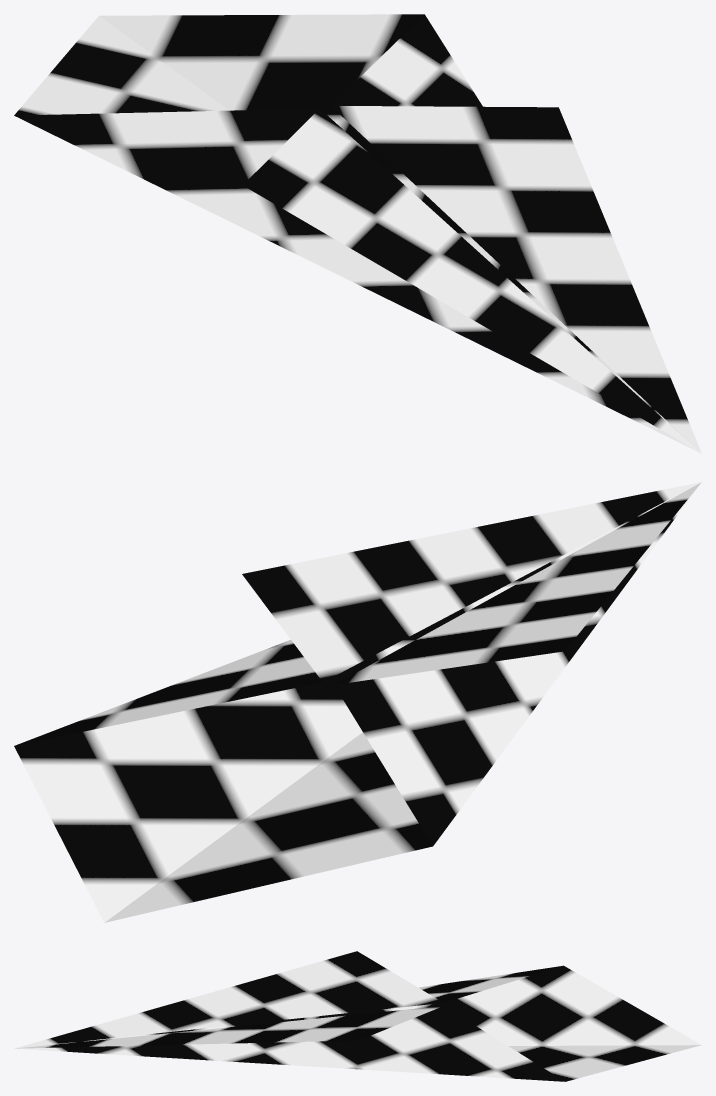
The model's file is stst104.dae.
The picture shows the model from 3 angles, top to bottom: view 1: azimuth 30°, elevation 25°; view 2: azimuth 150°, elevation 25°; view 3: azimuth 270°, elevation 25°; orthographic projection. The views are drawn at different scales.
Parts seen in each view (by area): view 1: note; view 2: note; view 3: note.
Part boxes in pixels (x1,y1,x2,y2): note: [14, 14, 701, 453]; note: [14, 482, 701, 922]; note: [14, 951, 701, 1081].
Bounding box in the file's own units: 0.2021 × 0.5065 × 0.0422.
Materials: 1 (1 with a texture image).
